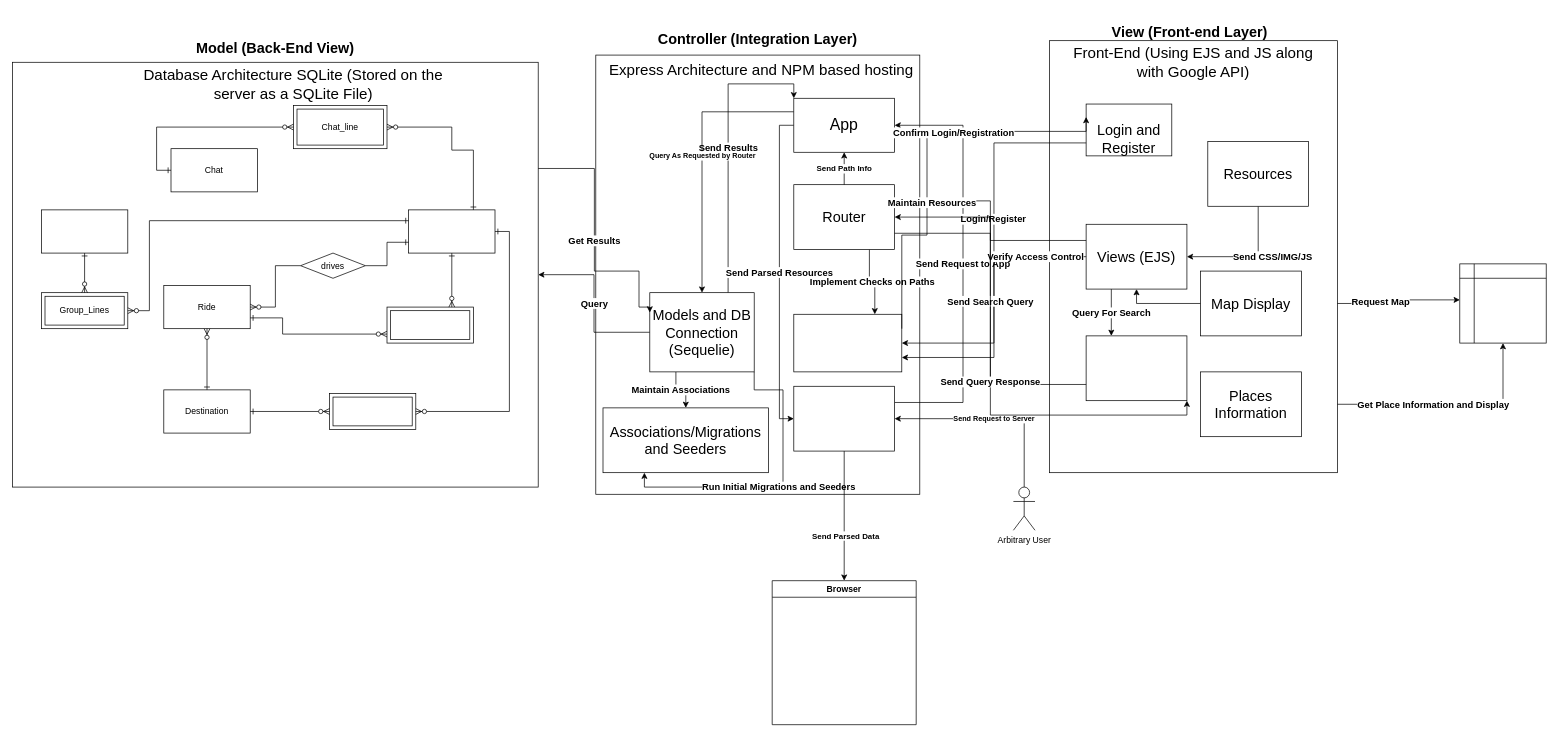
The diagram is 1559 pixels wide and 737 high, and some of its shapes have lost their labels. Here are the shapes that lost their labels. From the top down, the centre of each, then its label:
At (x=84, y=231): "Group".
At (x=451, y=231): "User".
At (x=1502, y=303): "Google API".
At (x=429, y=324): "Ride_riders".
At (x=847, y=343): "Auth".
At (x=1136, y=368): "Ride Search".
At (x=372, y=411): "User_Favs".
At (x=844, y=418): "Server".
